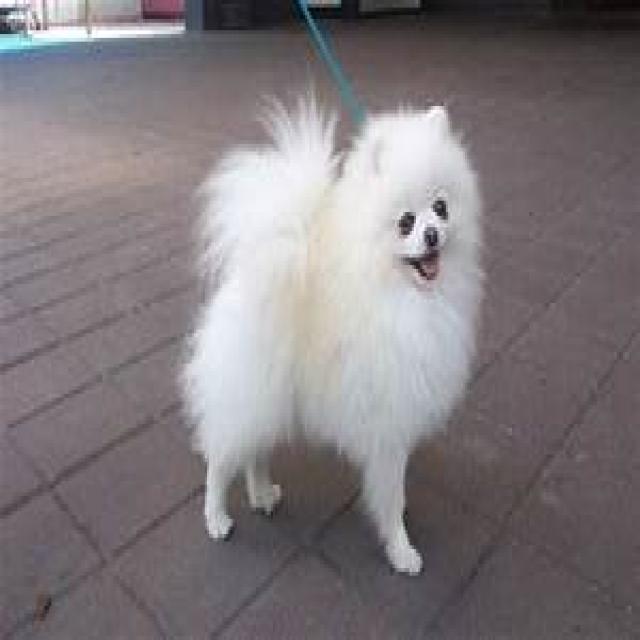FIL: (174, 94, 502, 594)
